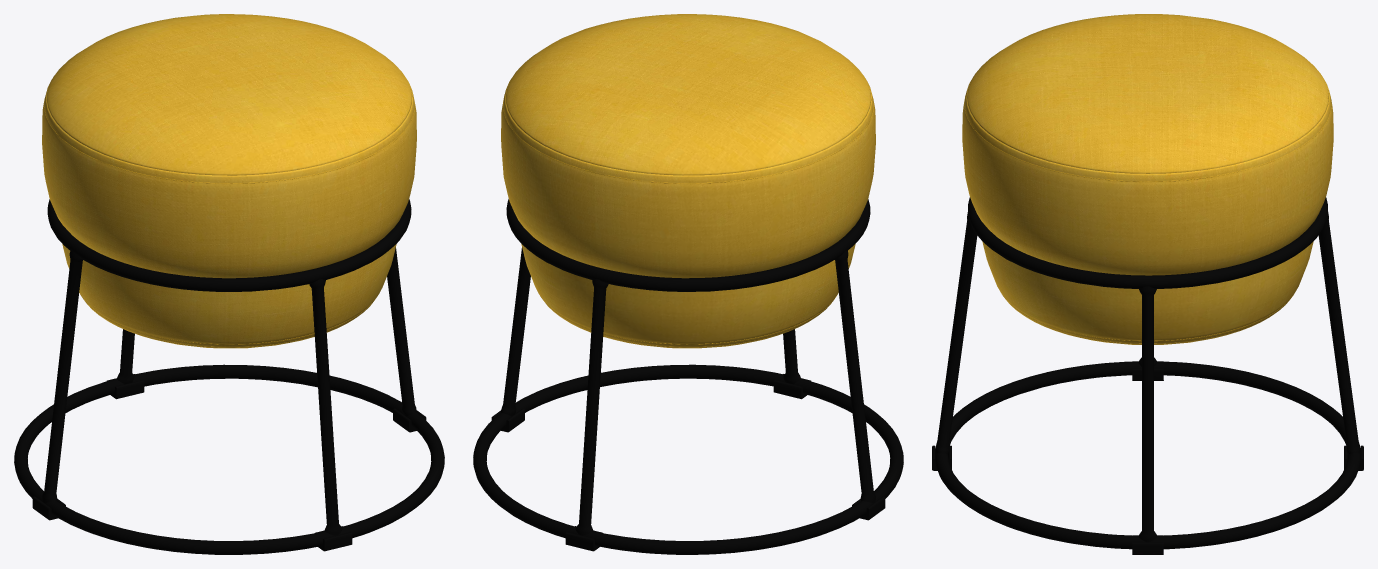
The model's file is stool-21.glb.
3 views of the same model, side by side, from view 1: azimuth 30°, elevation 25°; view 2: azimuth 150°, elevation 25°; view 3: azimuth 270°, elevation 25° (orthographic).
Visible parts, largest first — view 1: Mesh_0; view 2: Mesh_0; view 3: Mesh_0.
Boxes of the visible parts, x1=… form: Mesh_0: x1=14, y1=14, x2=444, y2=554; Mesh_0: x1=473, y1=14, x2=903, y2=554; Mesh_0: x1=932, y1=14, x2=1363, y2=554.
Bounding box in the file's own units: 0.42 × 0.4303 × 0.42.
1 material, 1 textured.
